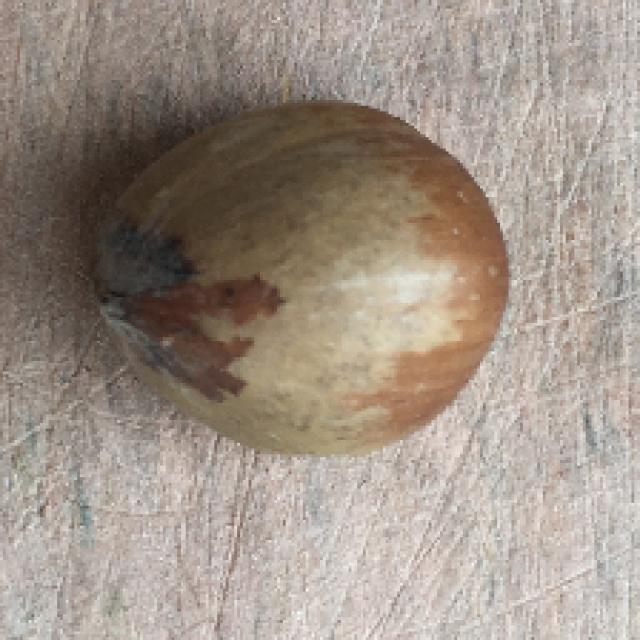damagedHazelnut: (79, 98, 519, 460)
